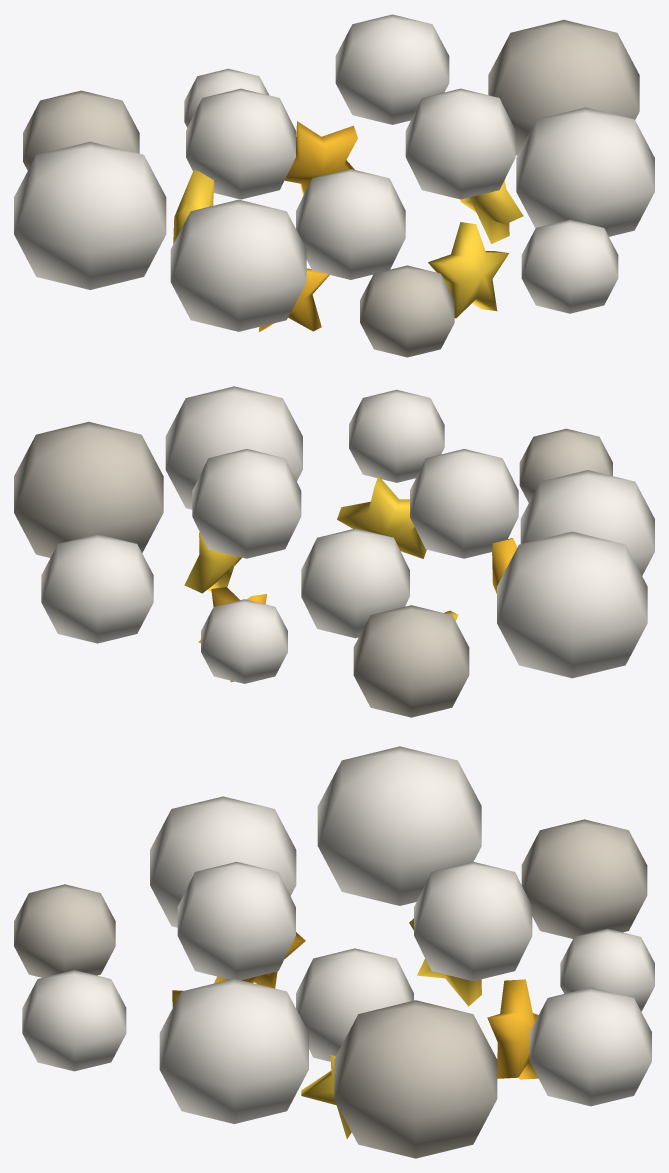
File: hunter_fx.glb
The picture shows the model from 3 angles, top to bottom: view 1: azimuth 30°, elevation 25°; view 2: azimuth 150°, elevation 25°; view 3: azimuth 270°, elevation 25°; orthographic projection. The views are drawn at different scales.
Parts seen in each view (by area): view 1: Poof, Stars; view 2: Poof, Stars; view 3: Poof, Stars.
Boxes of the visible parts, x1,y1,x2,y2 form: Poof: [14, 14, 654, 357]; Stars: [173, 121, 523, 331]; Poof: [14, 386, 654, 717]; Stars: [184, 476, 517, 681]; Poof: [14, 746, 654, 1158]; Stars: [172, 918, 538, 1138].
Bounding box in the file's own units: 1.15 × 0.2959 × 0.9388.
Materials: 1 (1 with a texture image).
